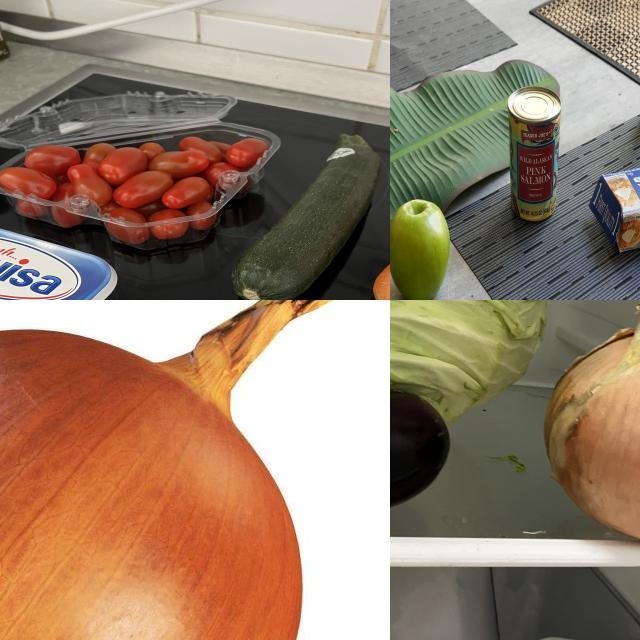cabbage: (391, 301, 553, 435)
eggplant: (391, 385, 457, 551)
onion: (1, 301, 368, 640), (544, 301, 640, 552)
tomato: (1, 112, 272, 226)
zucchini: (217, 120, 386, 301)
